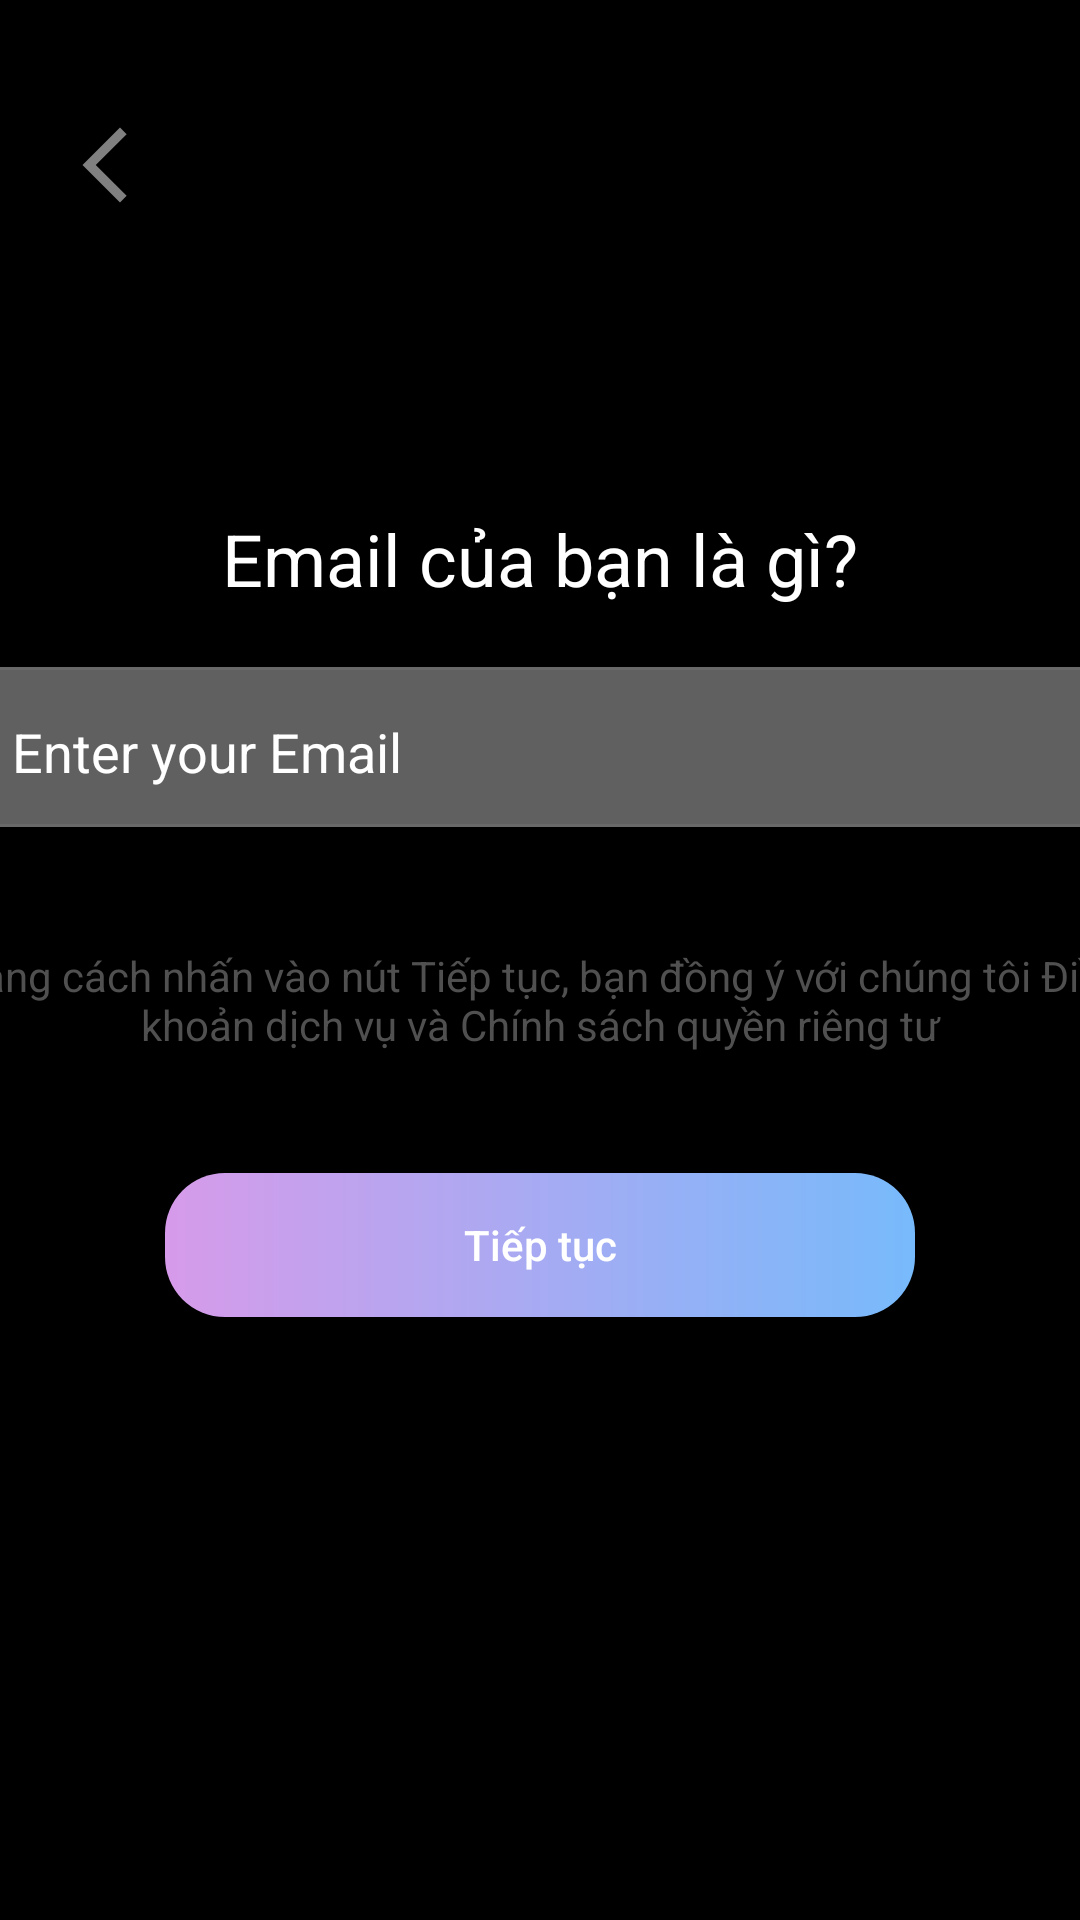

Point at icon controls on the screen. Image size 1080w x 1920h, points as [x,y].
back: [105,165]
